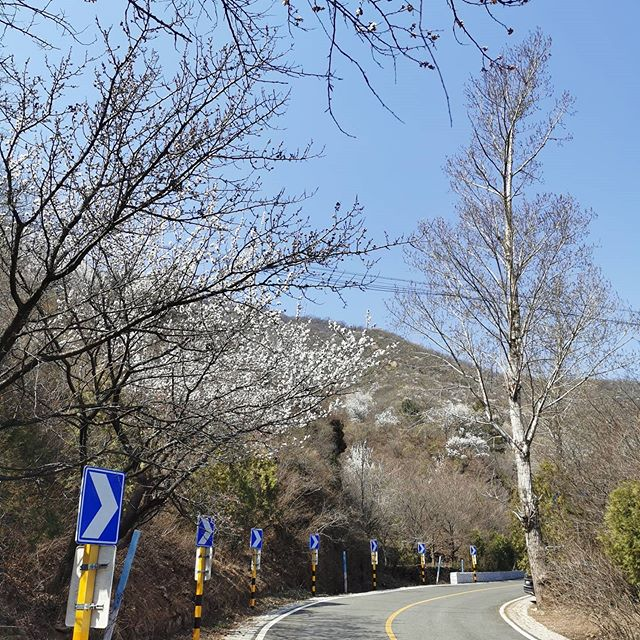sky: (97, 1, 629, 336)
street: (236, 569, 619, 640)
tree: (82, 304, 368, 640), (435, 34, 596, 588), (1, 22, 239, 330), (20, 206, 334, 404)
vegetation: (243, 337, 640, 549)
